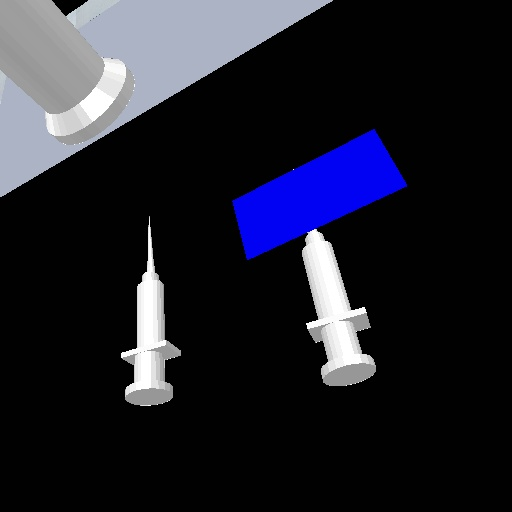jeringuilla: (298, 227, 383, 392), (118, 210, 185, 411)
